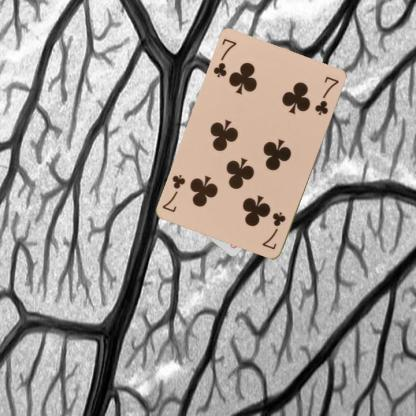7c: (211, 36, 238, 79), (260, 209, 287, 251)
